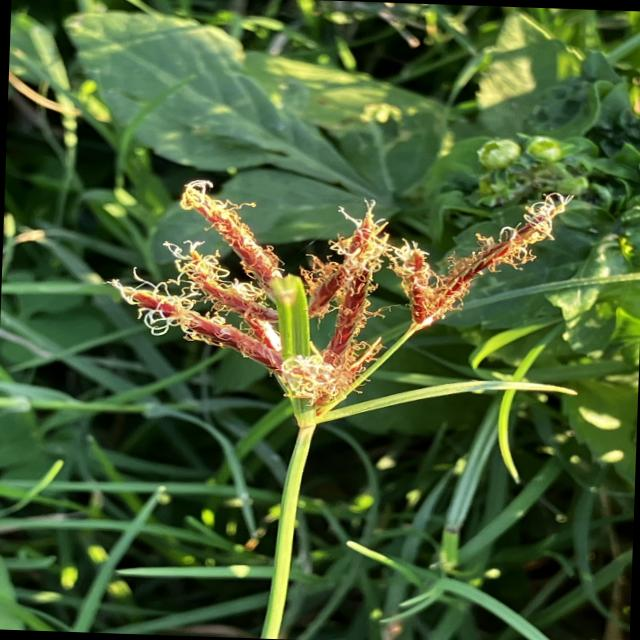cyperus: (102, 160, 590, 460)
